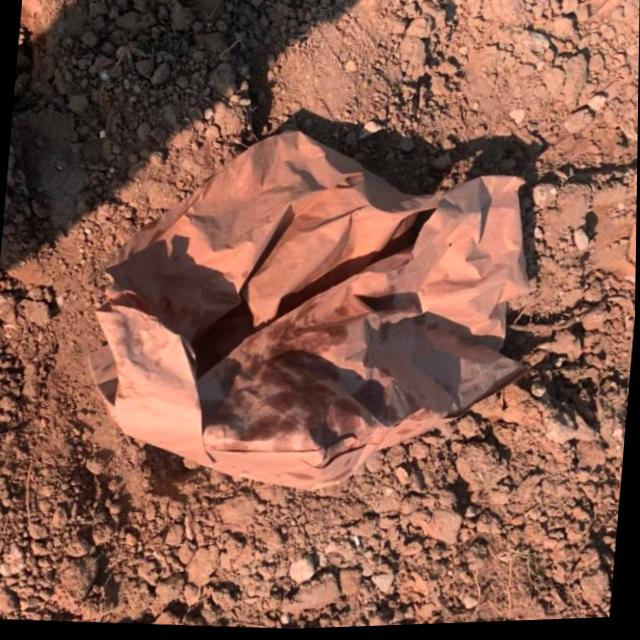Paper: (74, 108, 551, 516)
